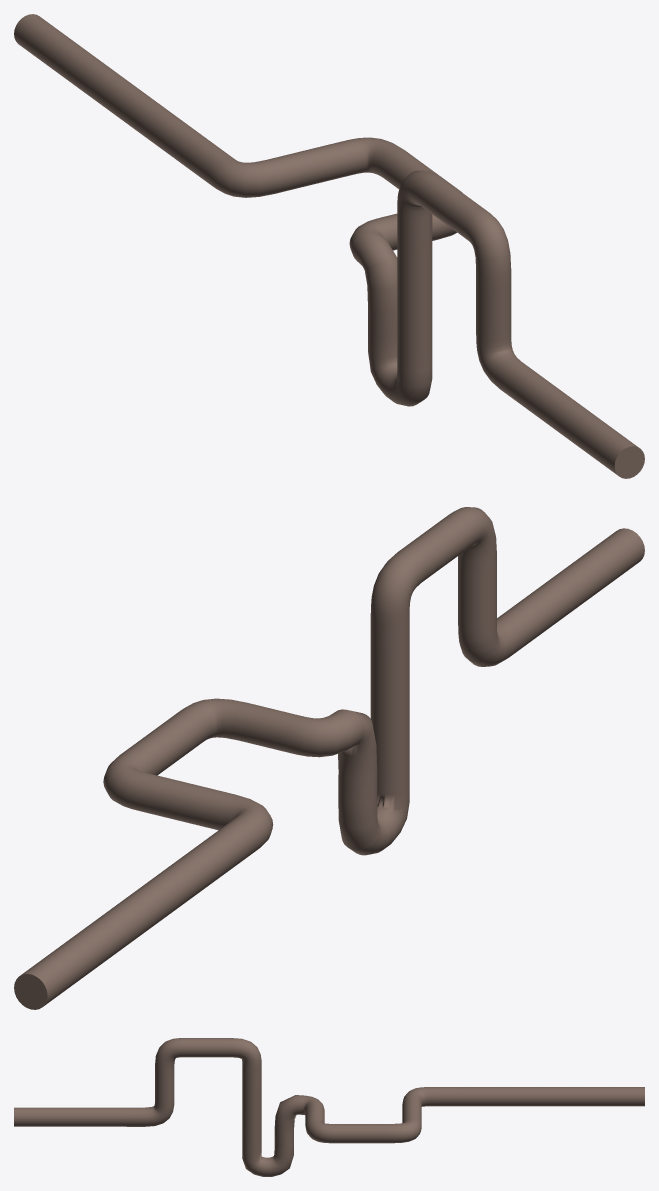
The model's file is CagnoC.FBX.
3 renders of one model, top to bottom at view 1: azimuth 30°, elevation 25°; view 2: azimuth 150°, elevation 25°; view 3: azimuth 270°, elevation 25°, orthographic. The views are drawn at different scales.
Visible parts, largest first — view 1: Loft002; view 2: Loft002; view 3: Loft002.
Part boxes in pixels (left/top/right/bottom): Loft002: left=14, top=14, right=644, bottom=478; Loft002: left=14, top=507, right=644, bottom=1009; Loft002: left=14, top=1038, right=644, bottom=1176.
Bounding box in the file's own units: 110 × 156 × 650.
